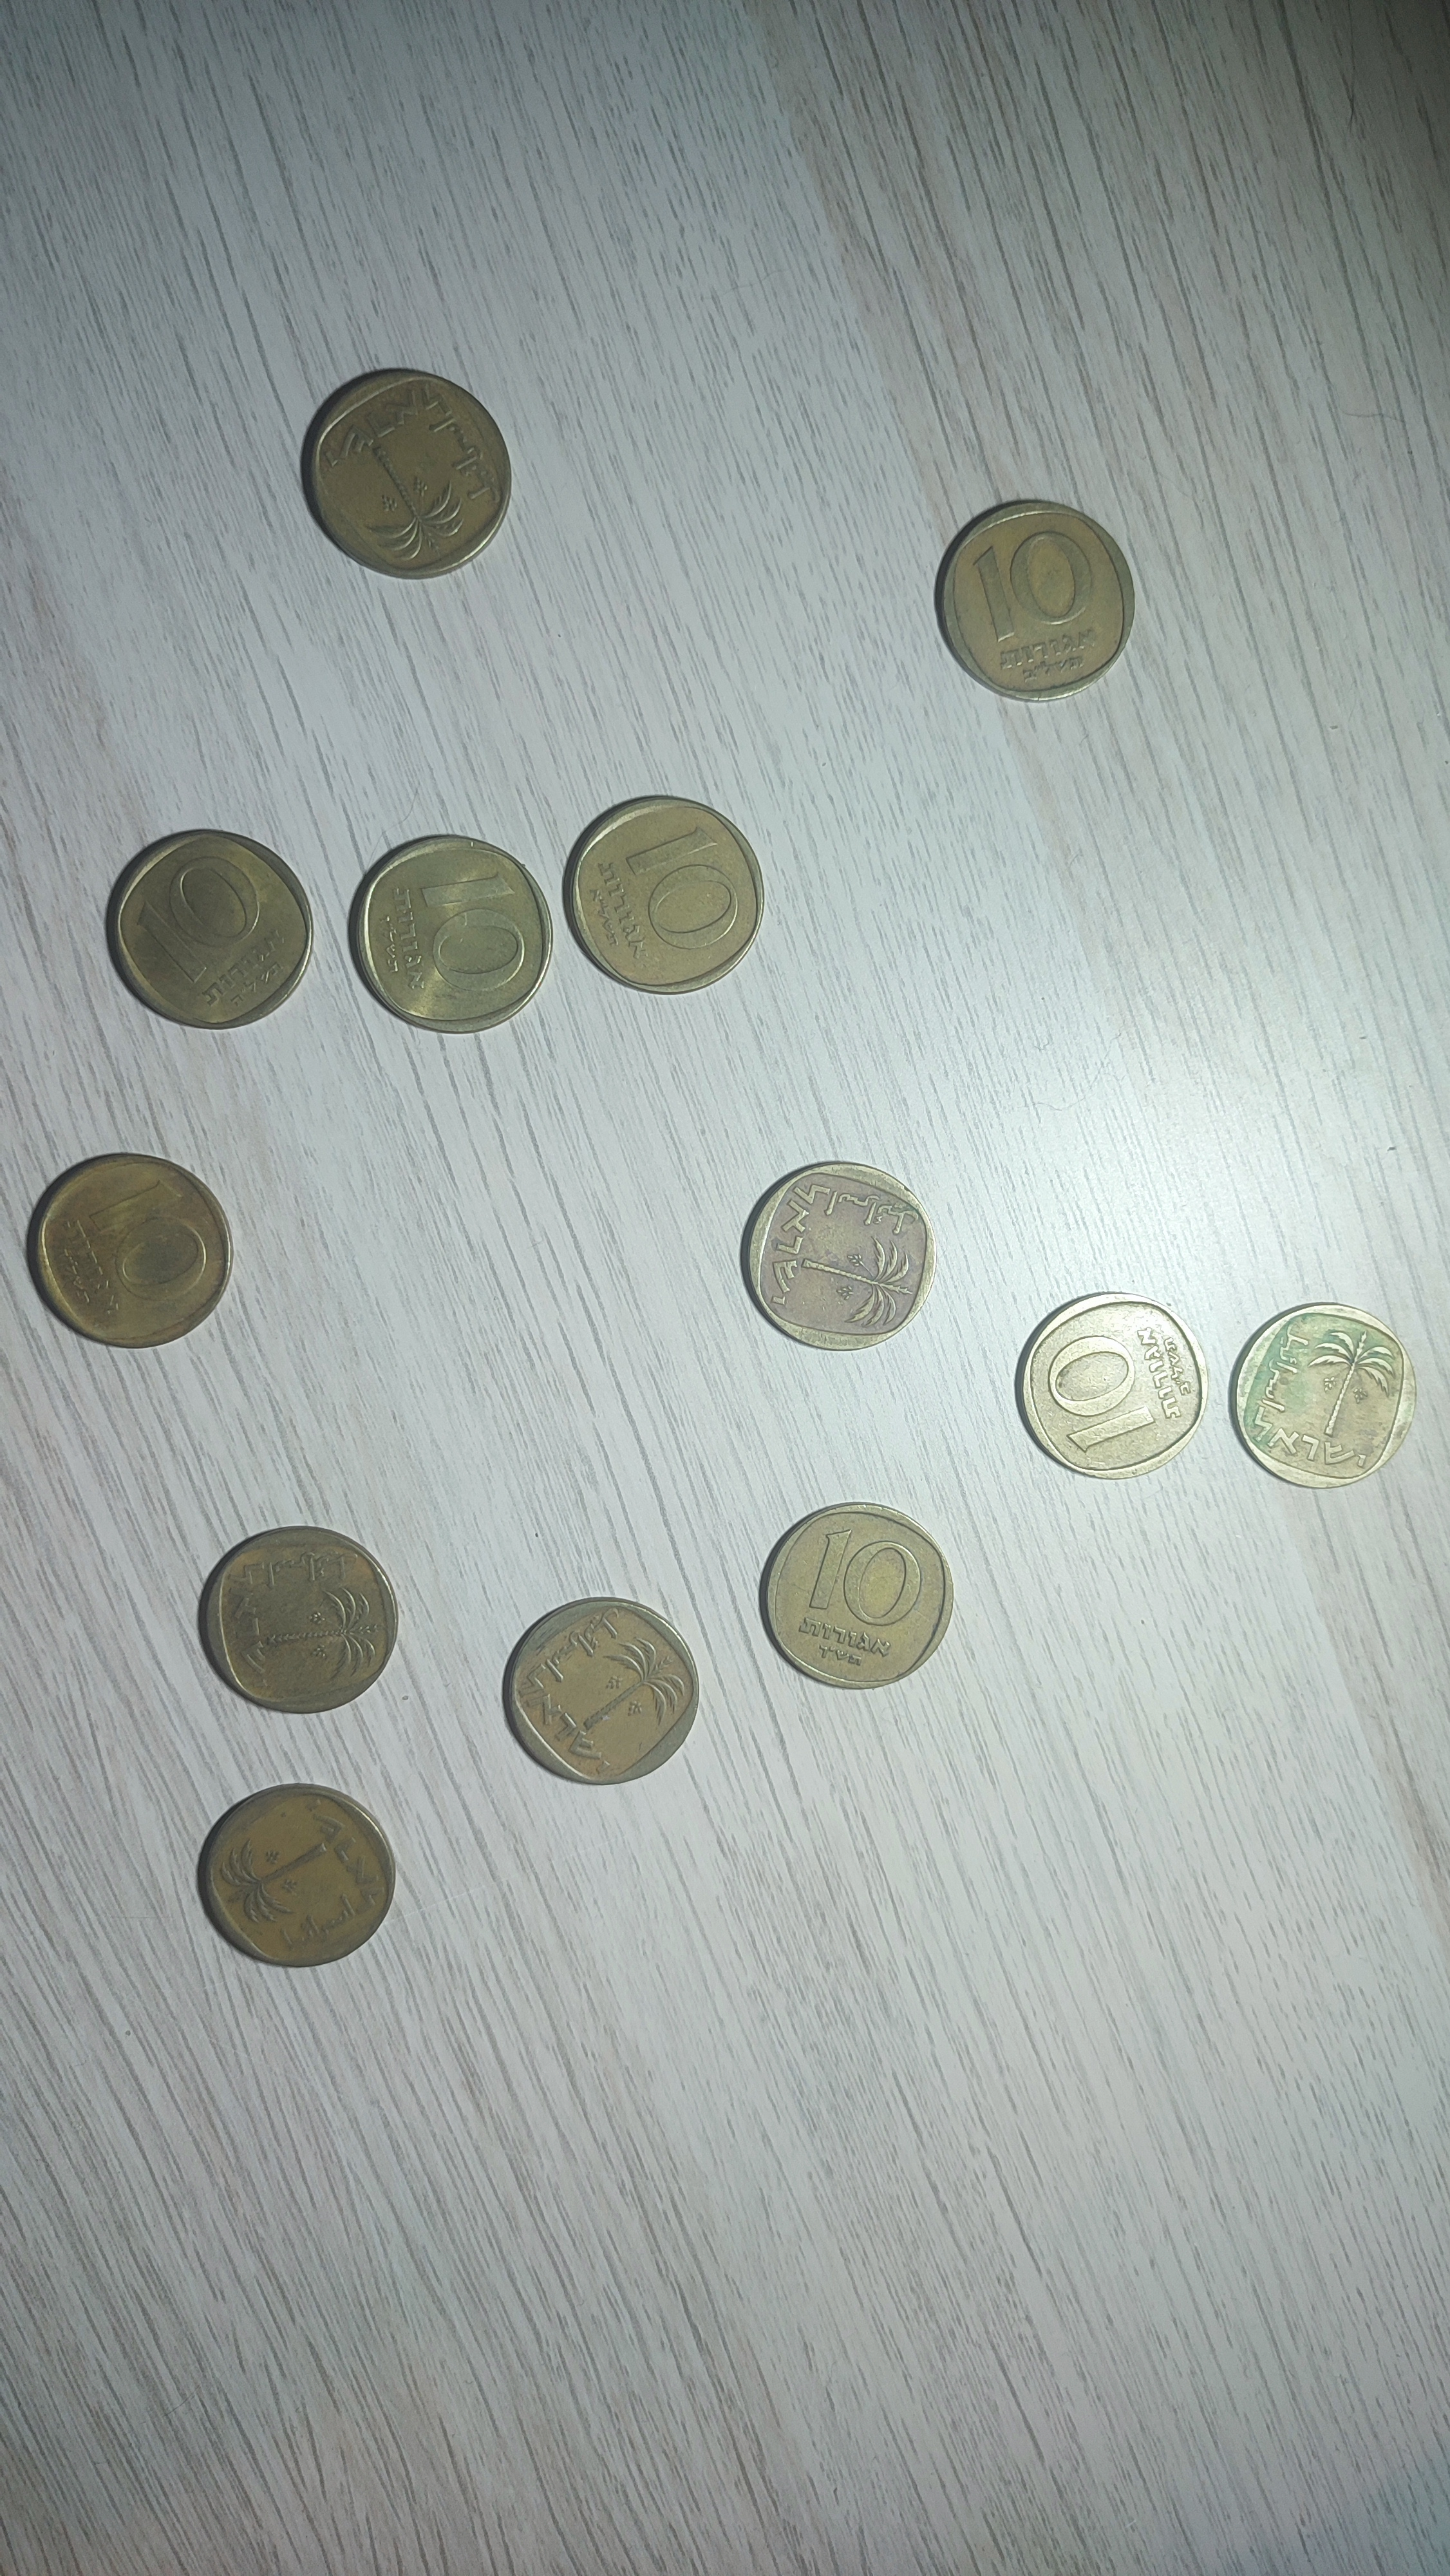10 old agora brown: (309, 370, 515, 580), (111, 830, 313, 1030), (941, 497, 1137, 702), (569, 796, 766, 996), (357, 837, 553, 1035), (35, 1154, 233, 1350), (202, 1525, 400, 1718), (506, 1598, 700, 1787), (1019, 1292, 1210, 1483), (198, 1783, 396, 1967), (746, 1162, 937, 1352), (766, 1504, 957, 1693), (1232, 1302, 1418, 1490)
